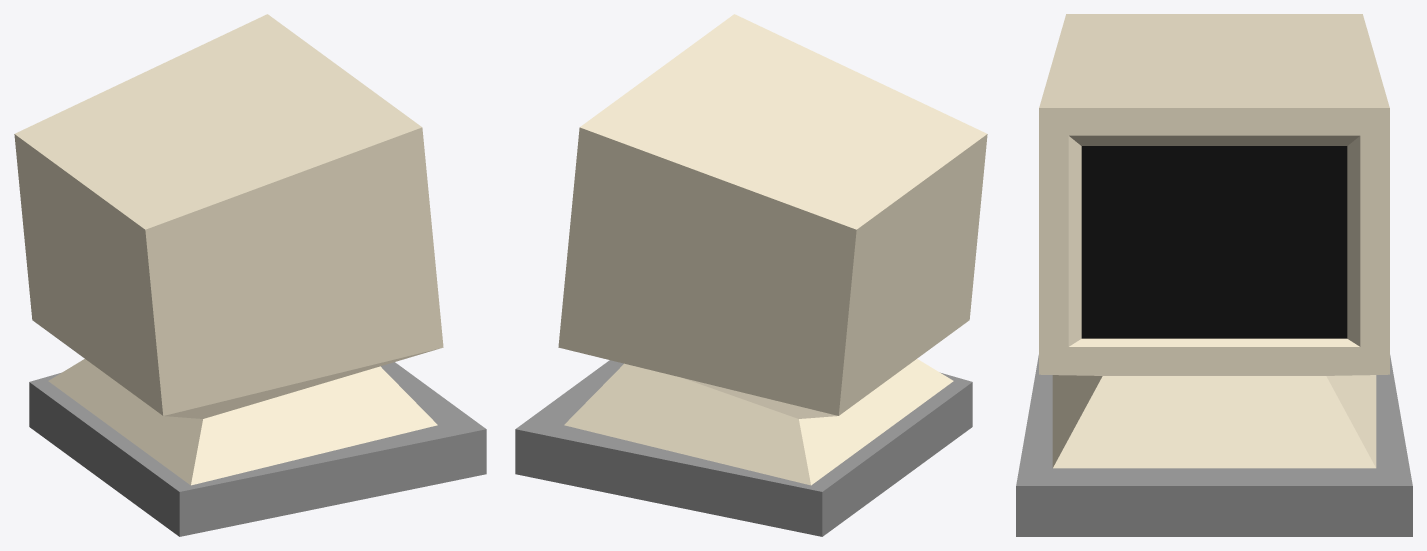
The model's file is Computer.fbx.
3 views of the same model, side by side, from view 1: azimuth 30°, elevation 25°; view 2: azimuth 150°, elevation 25°; view 3: azimuth 270°, elevation 25° (orthographic). The views are drawn at different scales.
Parts seen in each view (by area): view 1: Computer; view 2: Computer; view 3: Computer.
Boxes of the visible parts, <box> form: Computer: <box>14,14,486,536</box>; Computer: <box>515,14,987,536</box>; Computer: <box>1016,14,1412,536</box>.
Size of the model in its own units: 31.23 by 32.97 by 29.7.
